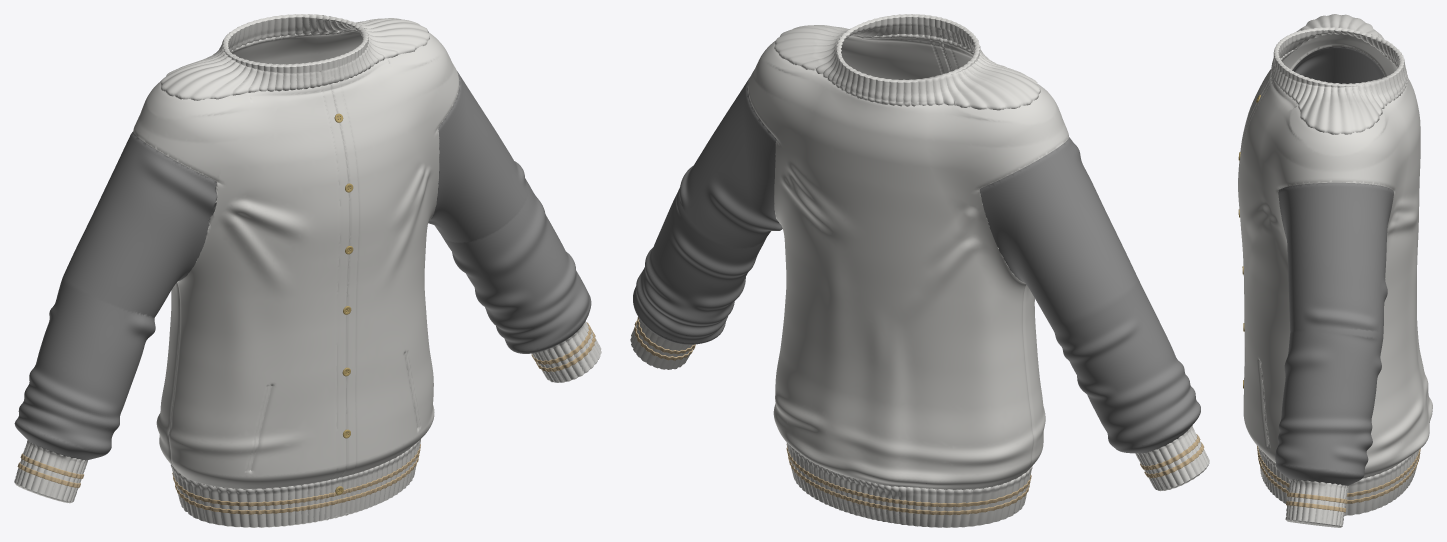
The model's file is 08_chaqueta_varsity.glb.
The picture shows the model from 3 angles, left to right: view 1: azimuth 30°, elevation 25°; view 2: azimuth 150°, elevation 25°; view 3: azimuth 270°, elevation 25°; orthographic projection. The views are drawn at different scales.
Visible parts, largest first — view 1: body, secondary, trim; view 2: body, secondary, trim; view 3: body, secondary, trim.
Boxes of the visible parts, x1,y1,x2,y2 form: body: [14, 14, 601, 527]; secondary: [14, 71, 591, 460]; trim: [17, 322, 595, 514]; body: [630, 14, 1209, 527]; secondary: [633, 77, 1200, 453]; trim: [634, 317, 1204, 515]; body: [1238, 14, 1432, 527]; secondary: [1275, 46, 1393, 485]; trim: [1257, 446, 1420, 512].
Bounding box in the file's own units: 0.9865 × 0.7396 × 0.3127.
